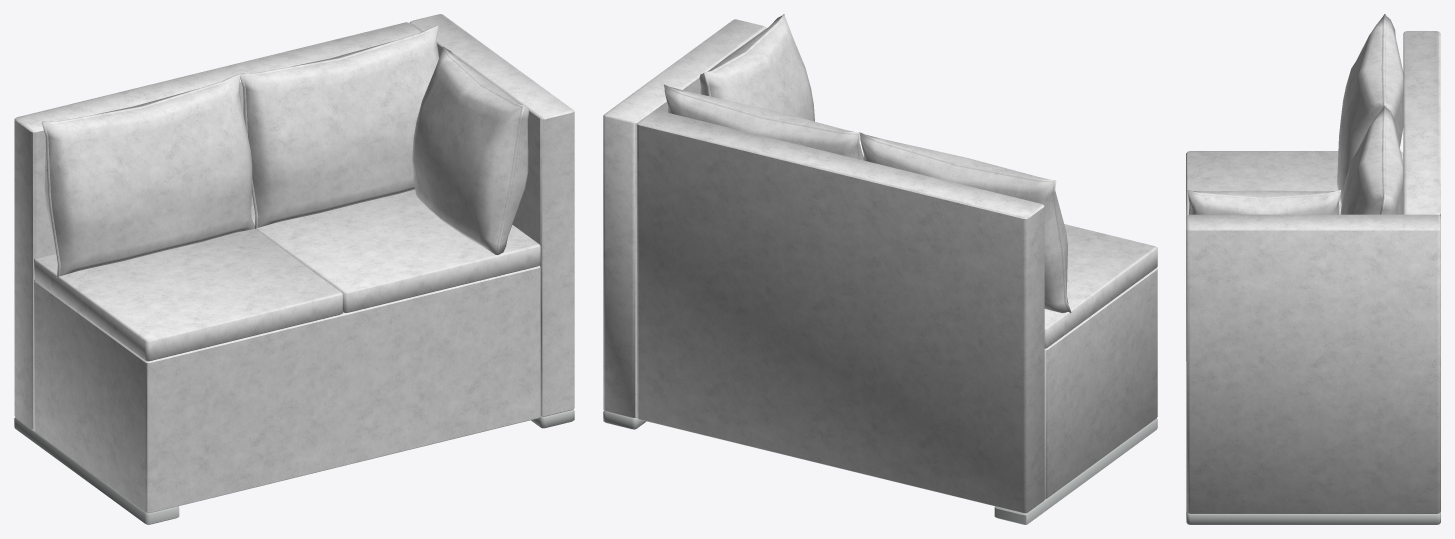
The model's file is Sofa07_1.FBX.
3 renders of one model, left to right at view 1: azimuth 30°, elevation 25°; view 2: azimuth 150°, elevation 25°; view 3: azimuth 270°, elevation 25°, orthographic. The views are drawn at different scales.
Visible parts, largest first — view 1: Sofa07_1; view 2: Sofa07_1; view 3: Sofa07_1.
Part boxes in pixels (x1=…): Sofa07_1: x1=14, y1=14, x2=574, y2=524; Sofa07_1: x1=603, y1=14, x2=1157, y2=524; Sofa07_1: x1=1186, y1=14, x2=1440, y2=524.
Size of the model in its own units: 156 by 114 by 84.12.
